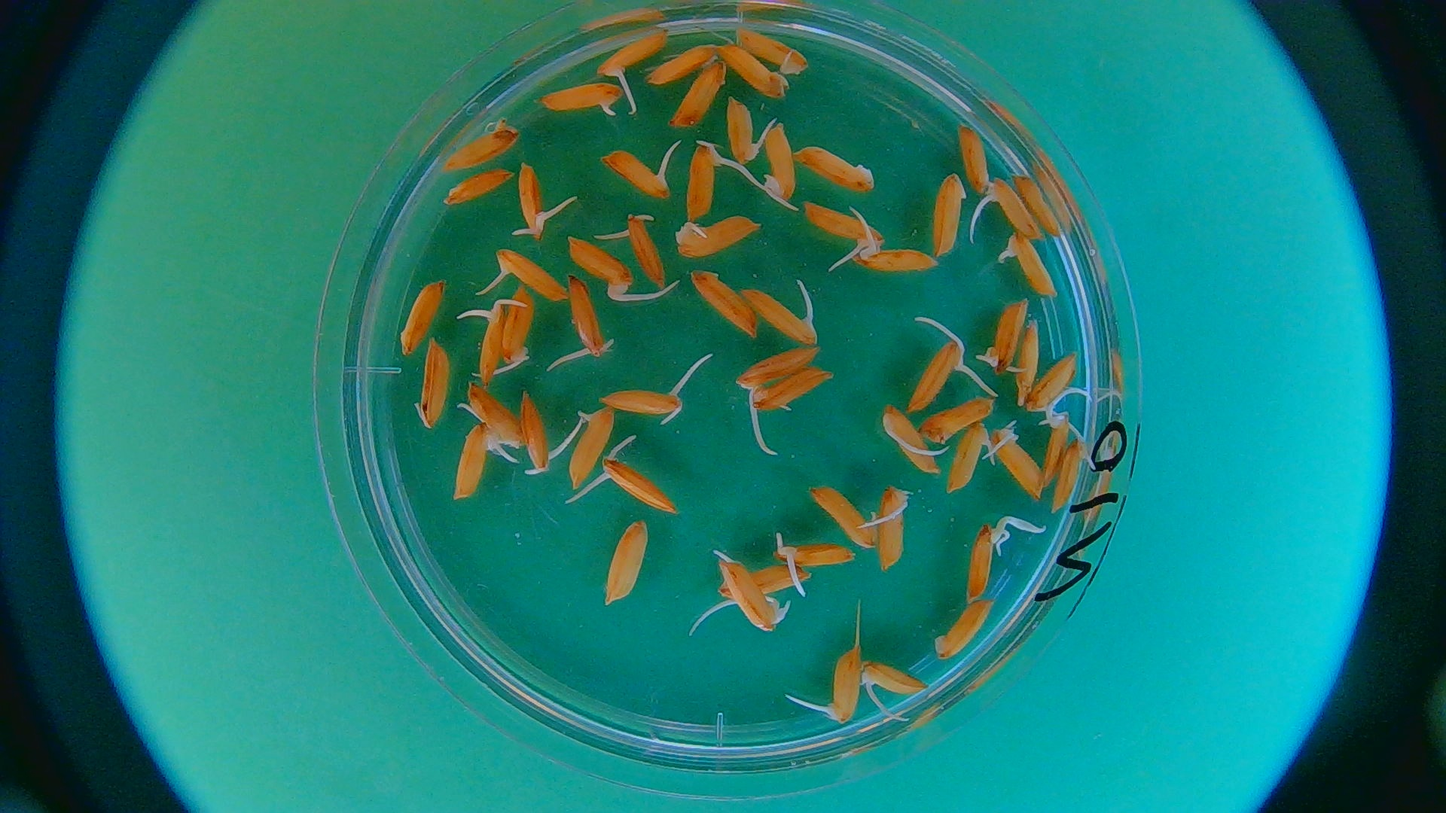no: (688, 266, 761, 339), (806, 486, 883, 550), (714, 43, 793, 97), (602, 518, 651, 604), (670, 58, 728, 128), (795, 142, 872, 193), (462, 385, 526, 446), (919, 397, 998, 446), (735, 347, 819, 393), (394, 278, 443, 355), (413, 340, 455, 428), (447, 118, 519, 169), (713, 567, 813, 601), (648, 41, 721, 87), (932, 173, 969, 258), (1015, 175, 1063, 239), (442, 165, 519, 204), (953, 122, 994, 195), (933, 604, 988, 655), (1017, 321, 1042, 404)
yes: (599, 455, 675, 518), (491, 247, 575, 303), (879, 404, 944, 474), (721, 560, 784, 631), (740, 285, 815, 343), (991, 426, 1047, 502), (596, 29, 670, 84), (902, 336, 960, 406), (803, 204, 881, 255), (566, 232, 631, 290), (567, 406, 612, 489), (675, 215, 761, 258), (988, 182, 1043, 247), (734, 26, 805, 76), (946, 422, 996, 493), (749, 367, 830, 410), (451, 422, 495, 501), (600, 154, 673, 200), (1053, 438, 1098, 511), (776, 541, 856, 582), (621, 215, 666, 287), (565, 276, 606, 354), (1030, 355, 1084, 413), (1003, 238, 1055, 298), (986, 300, 1027, 375), (541, 81, 626, 117), (875, 481, 909, 571), (762, 121, 798, 199), (598, 385, 683, 418), (1039, 413, 1078, 484), (965, 518, 998, 601), (474, 303, 508, 382), (688, 142, 722, 220), (851, 242, 939, 272), (827, 650, 862, 725), (519, 394, 551, 472), (502, 286, 531, 372), (515, 163, 548, 238), (860, 664, 920, 701), (727, 99, 758, 164)
